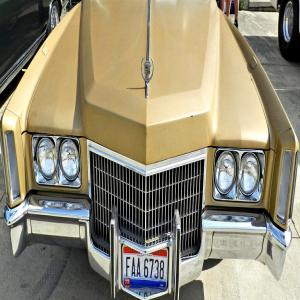Vehicle-registration-plate: (116, 242, 173, 291)
